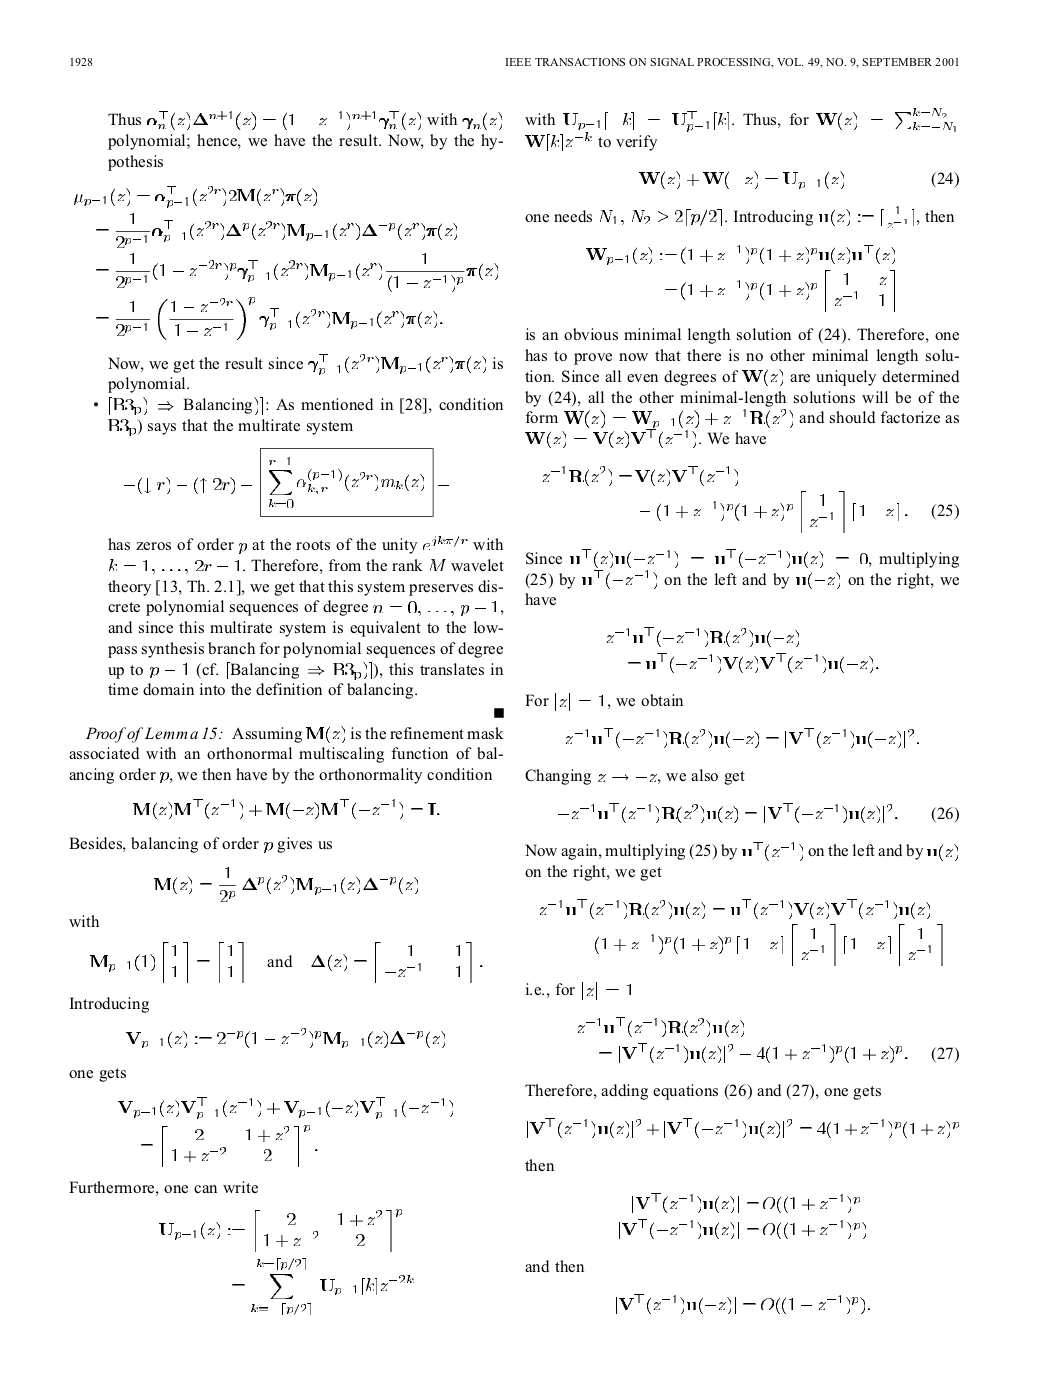figure: (494, 707, 503, 718)
formula: (124, 447, 448, 517), (525, 107, 955, 150), (525, 548, 958, 590), (90, 941, 481, 983), (96, 252, 497, 292), (595, 922, 942, 966), (96, 296, 442, 340), (640, 490, 958, 533), (96, 212, 456, 249), (159, 1208, 401, 1252), (232, 1258, 413, 1314), (665, 269, 894, 312), (154, 866, 417, 902), (527, 1117, 958, 1138), (539, 898, 929, 919), (558, 802, 958, 822), (108, 110, 502, 130), (118, 1096, 452, 1119), (598, 1042, 958, 1063), (565, 727, 918, 748), (142, 1124, 317, 1167), (586, 244, 894, 265), (133, 798, 439, 819), (126, 1028, 444, 1048), (639, 171, 958, 189), (74, 185, 317, 208), (616, 1293, 869, 1314), (627, 652, 878, 673), (619, 1218, 865, 1239), (632, 1192, 859, 1213), (525, 429, 765, 447), (606, 625, 798, 647), (542, 465, 737, 486), (577, 1016, 743, 1038), (525, 981, 630, 1000)
